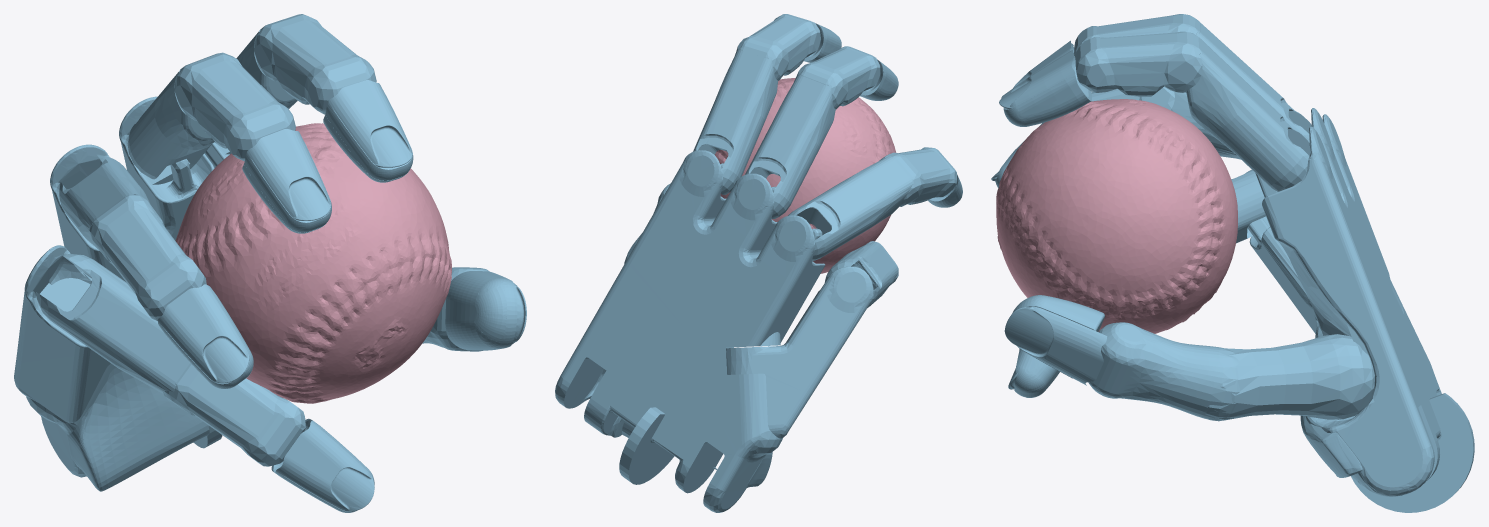
3 renders of one model, left to right at view 1: azimuth 30°, elevation 25°; view 2: azimuth 150°, elevation 25°; view 3: azimuth 270°, elevation 25°, orthographic. The views are drawn at different scales.
Visible parts, largest first — view 1: world, baseball.stl; view 2: world, baseball.stl; view 3: world, baseball.stl.
Boxes of the visible parts, box(x1,y1,x2,y2) form: world: box(14, 14, 526, 512); baseball.stl: box(175, 123, 451, 403); world: box(555, 14, 962, 512); baseball.stl: box(713, 78, 896, 273); world: box(991, 14, 1474, 512); baseball.stl: box(996, 99, 1237, 333).
Size of the model in its own units: 0.1173 by 0.1559 by 0.1452.
